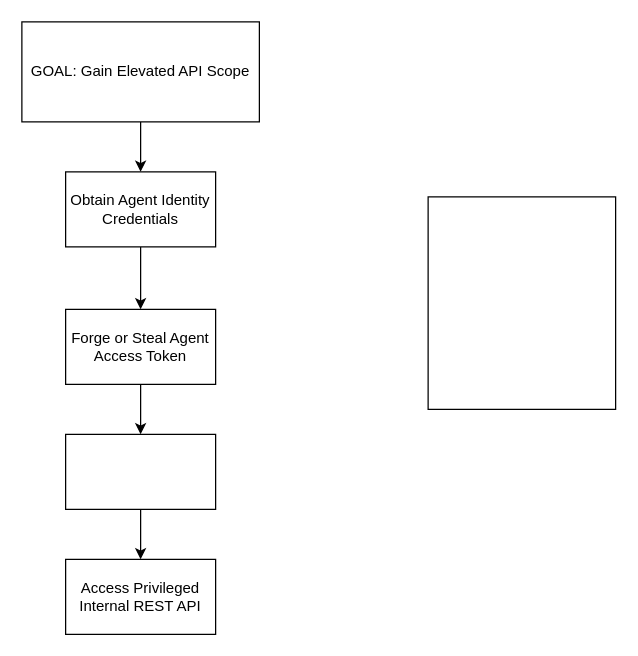
The diagram is 638 pixels wide and 656 high, and some of its shapes have lost their labels. The shapes that lost their labels are listed below. From the top down, each one's centre as x and y in pixels, then its label:
At [521,302]: "Likelihood: 4/5 Impact: 5/5 Risk Score: 20/25 Risk Level: critical".
At [140,471]: "Exploit Weak Token validation or Excessive Permissions".
